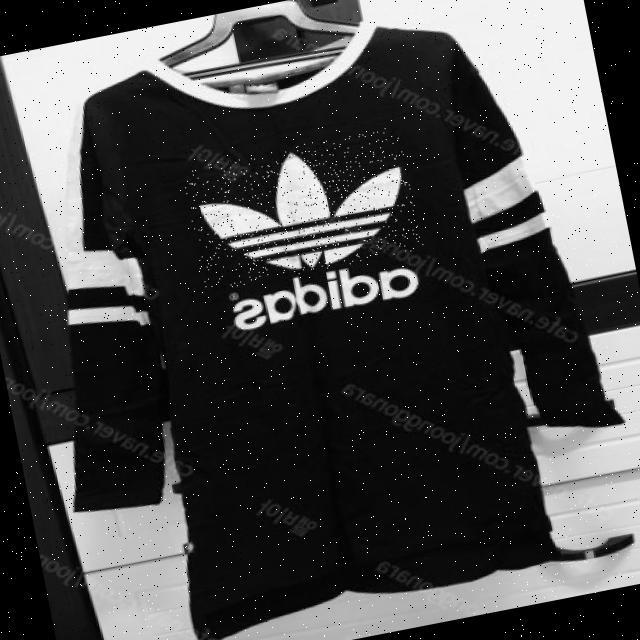Adidas: (181, 126, 425, 293)
